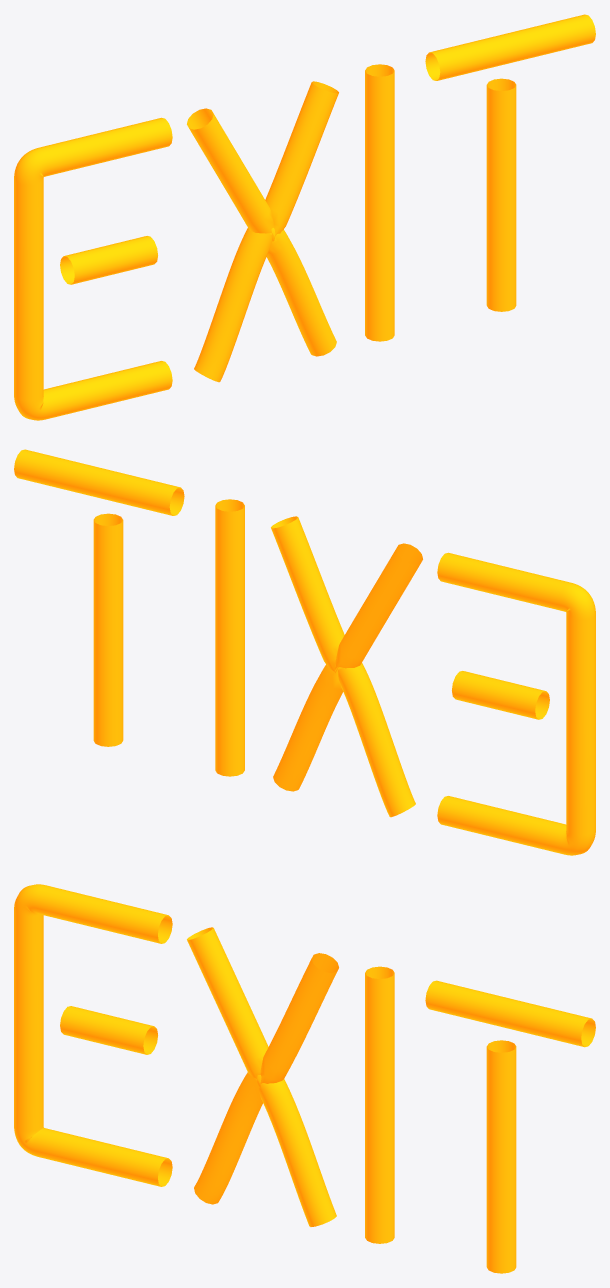
The model's file is exit.glb.
The picture shows the model from 3 angles, top to bottom: view 1: azimuth 30°, elevation 25°; view 2: azimuth 150°, elevation 25°; view 3: azimuth 330°, elevation 25°; orthographic projection.
Parts seen in each view (by area): view 1: Exit; view 2: Exit; view 3: Exit.
Boxes of the visible parts, <box> form: Exit: <box>14,14,595,420</box>; Exit: <box>14,449,595,855</box>; Exit: <box>14,884,595,1273</box>.
Size of the model in its own units: 1.34 by 0.6116 by 0.0604.
